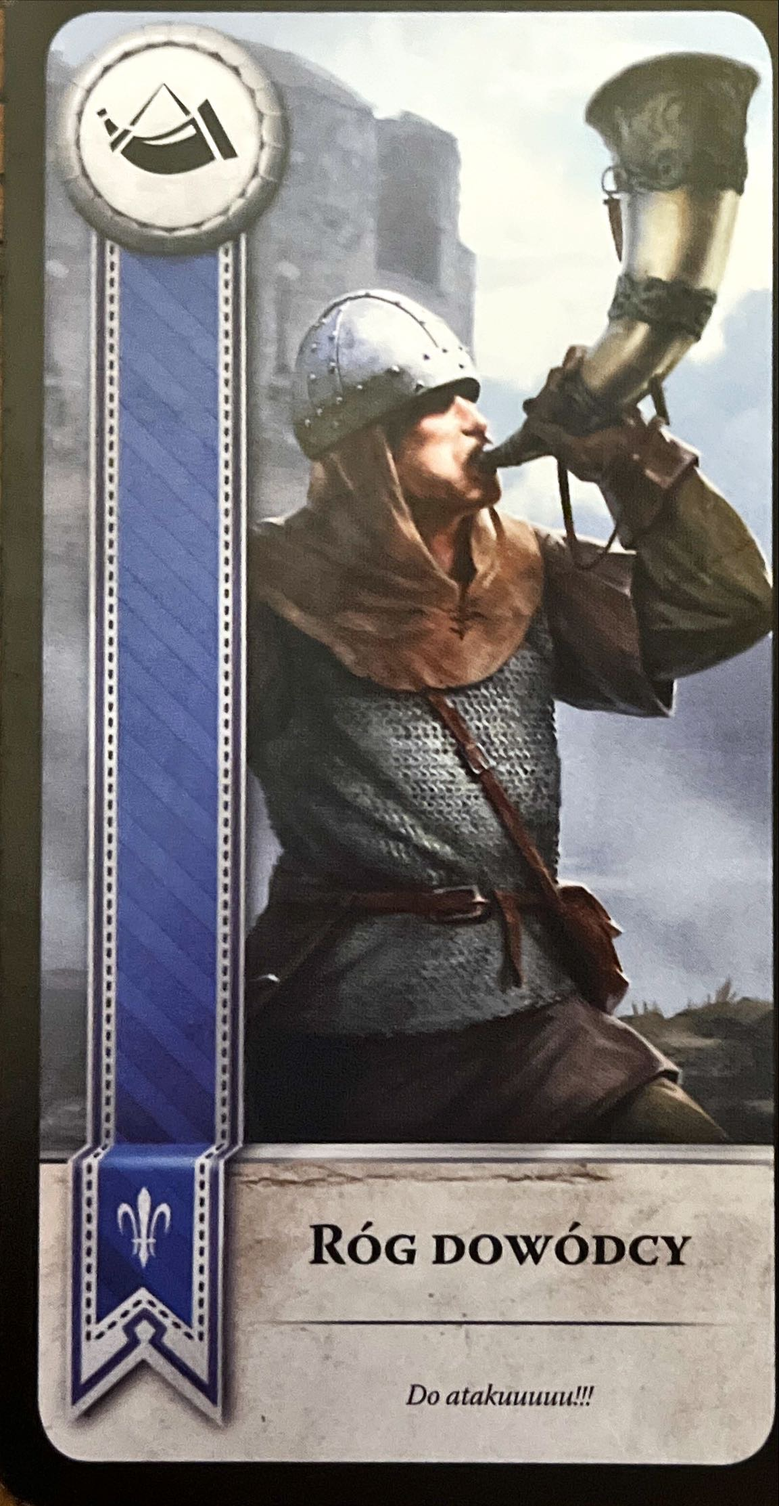rog: (55, 17, 289, 257)
